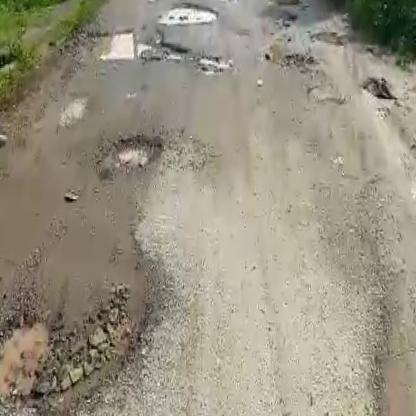pothole: (0, 281, 167, 416), (94, 26, 196, 66), (98, 128, 166, 180), (157, 0, 219, 26), (195, 55, 231, 75)
